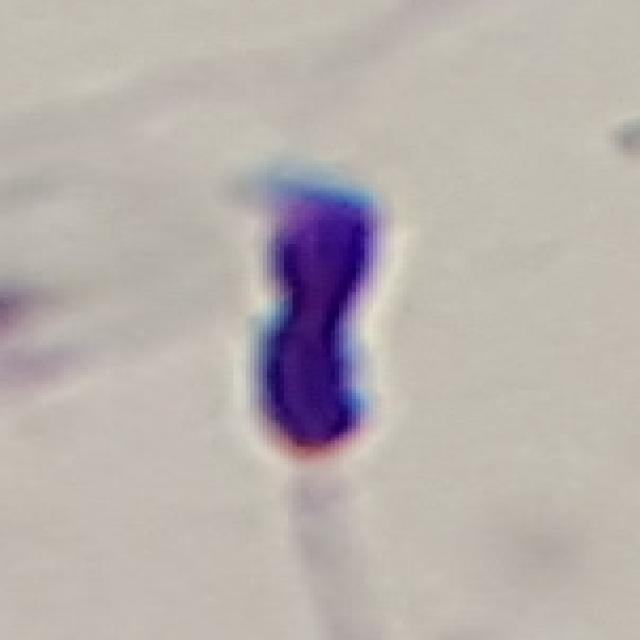abnormal sperm: (242, 169, 396, 619)
